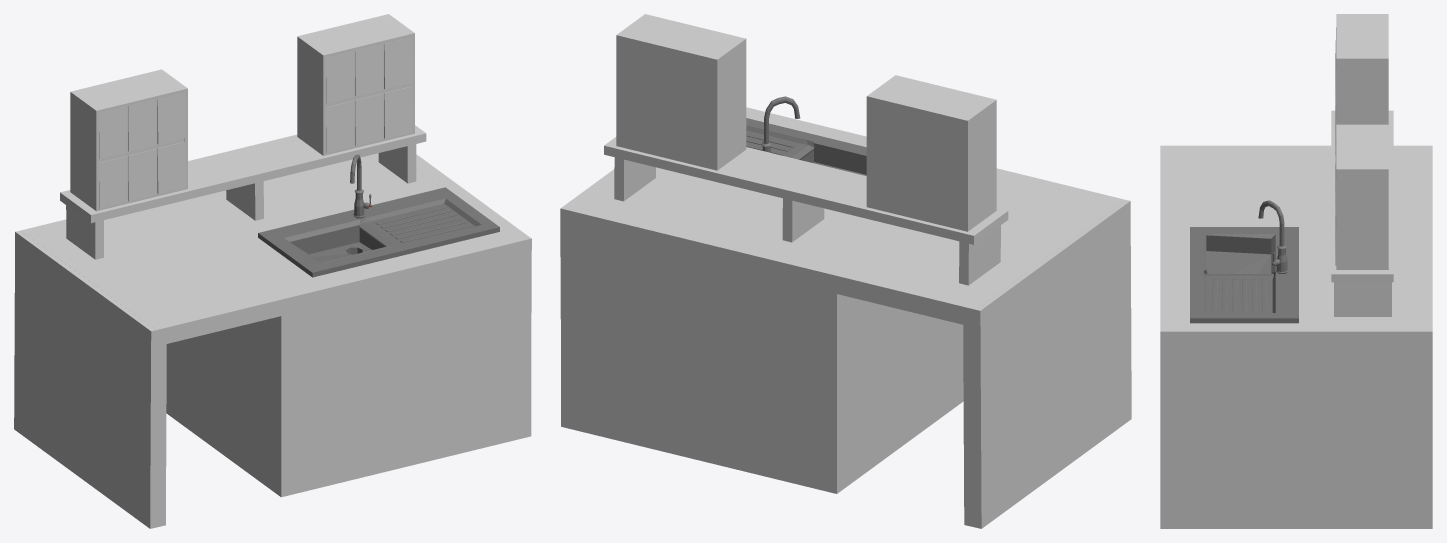
Rendered from mesa 3.fbx.
The picture shows the model from 3 angles, left to right: view 1: azimuth 30°, elevation 25°; view 2: azimuth 150°, elevation 25°; view 3: azimuth 270°, elevation 25°; orthographic projection. The views are drawn at different scales.
Parts seen in each view (by area): view 1: Box040, Box016, Box034, Box032, Box035, Box047, Box044, Box046, Box053, Box043, Box050, Box045 (+5 smaller); view 2: Box040, Box032, Box035, Box034, Box016; view 3: Box040, Box016, Box035, Box032, Box034.
Part boxes in pixels (bbox=[...]): Box040: bbox=[14, 153, 531, 528]; Box016: bbox=[258, 154, 499, 277]; Box034: bbox=[60, 125, 426, 259]; Box032: bbox=[70, 69, 187, 211]; Box035: bbox=[297, 14, 414, 155]; Box047: bbox=[157, 142, 185, 194]; Box044: bbox=[157, 92, 185, 144]; Box046: bbox=[128, 149, 156, 201]; Box053: bbox=[384, 86, 412, 138]; Box043: bbox=[128, 99, 156, 151]; Box050: bbox=[384, 37, 412, 89]; Box045: bbox=[99, 156, 127, 208]; Box040: bbox=[560, 107, 1131, 528]; Box032: bbox=[866, 75, 996, 231]; Box035: bbox=[616, 14, 746, 170]; Box034: bbox=[604, 137, 1008, 285]; Box016: bbox=[746, 96, 866, 175]; Box040: bbox=[1160, 145, 1432, 528]; Box016: bbox=[1190, 200, 1298, 323]; Box035: bbox=[1336, 124, 1388, 269]; Box032: bbox=[1336, 14, 1388, 124]; Box034: bbox=[1331, 110, 1393, 316].
Size of the model in its own units: 74.25 by 64.25 by 45.84.
3 materials, 2 textured.
